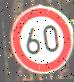Speed Limit -60-: (6, 3, 74, 76)
